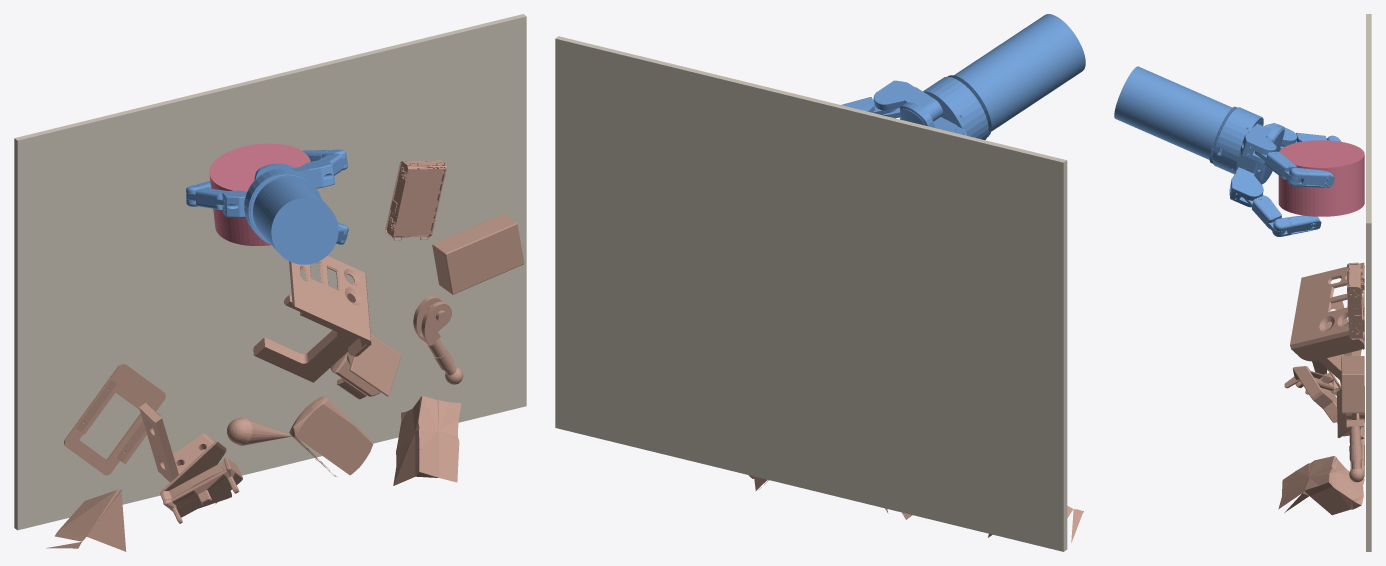
3 views of the same model, side by side, from view 1: azimuth 30°, elevation 25°; view 2: azimuth 150°, elevation 25°; view 3: azimuth 270°, elevation 25° (orthographic). The views are drawn at different scales.
Parts seen in each view (by area): view 1: environment, hand, obstacle_009, obstacle_002, obstacle_010, obstacle_004, world, obstacle_006, obstacle_005, obstacle_008, obstacle_011, obstacle_007 (+3 smaller); view 2: environment, hand; view 3: hand, world, obstacle_009, obstacle_010, environment, obstacle_008, obstacle_002, obstacle_006, obstacle_000, obstacle_007.
Boxes of the visible parts, x1,y1,x2,y2 form: environment: [14, 14, 526, 530]; hand: [186, 149, 348, 264]; obstacle_009: [253, 256, 371, 382]; obstacle_002: [432, 213, 524, 294]; obstacle_010: [393, 396, 461, 485]; obstacle_004: [64, 363, 165, 475]; world: [209, 143, 310, 245]; obstacle_006: [385, 160, 446, 240]; obstacle_005: [289, 396, 373, 476]; obstacle_008: [160, 440, 242, 523]; obstacle_011: [46, 489, 126, 551]; obstacle_007: [330, 334, 401, 399]; environment: [555, 36, 1067, 551]; hand: [841, 14, 1085, 139]; hand: [1114, 66, 1341, 236]; world: [1278, 140, 1364, 216]; obstacle_009: [1290, 262, 1364, 380]; obstacle_010: [1278, 456, 1364, 515]; environment: [1366, 14, 1371, 551]; obstacle_008: [1284, 366, 1341, 422]; obstacle_002: [1341, 356, 1364, 413]; obstacle_006: [1347, 262, 1364, 339]; obstacle_000: [1342, 413, 1364, 482]; obstacle_007: [1336, 389, 1364, 439].
Size of the model in its own units: 0.6921 by 0.5456 by 0.3595.
